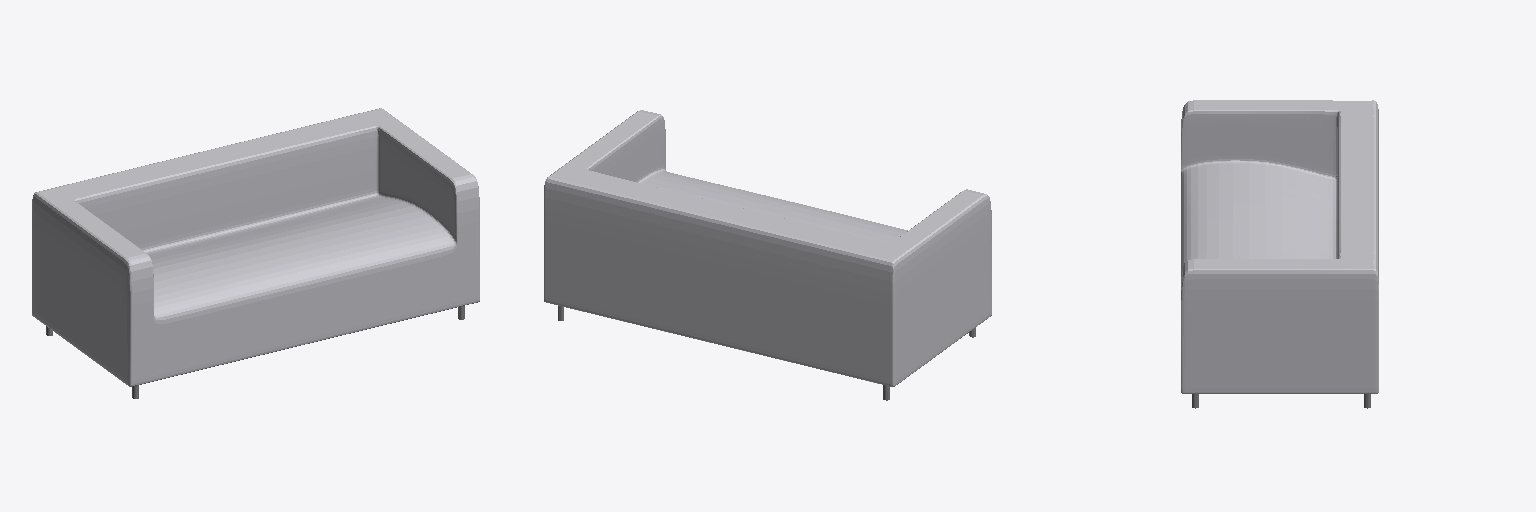
The model's file is IKE020010.obj.
The picture shows the model from 3 angles: view 1: azimuth 30°, elevation 25°; view 2: azimuth 150°, elevation 25°; view 3: azimuth 270°, elevation 25°; orthographic projection.
Parts seen in each view (by area): view 1: Box001; view 2: Box001; view 3: Box001.
Boxes of the visible parts, x1=… form: Box001: x1=32, y1=108, x2=479, y2=398; Box001: x1=544, y1=110, x2=991, y2=400; Box001: x1=1181, y1=100, x2=1378, y2=408.
Bounding box in the file's own units: 179 × 69.68 × 87.86.